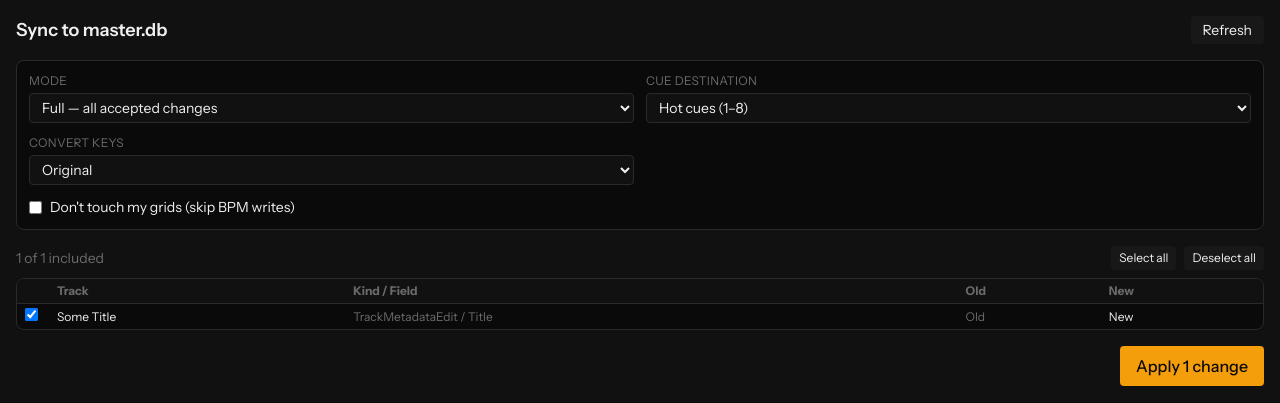
Test case: SyncPanel › excludes a row when its checkbox is toggled off
Expected: the text "Some Title" is shown, 49,304 -> 345,329
Expected: the text "1 of 1 included" is shown, 16,248 -> 104,268
Click the 2nd checkbox. click: [32, 314]
box: 25,308 -> 38,321
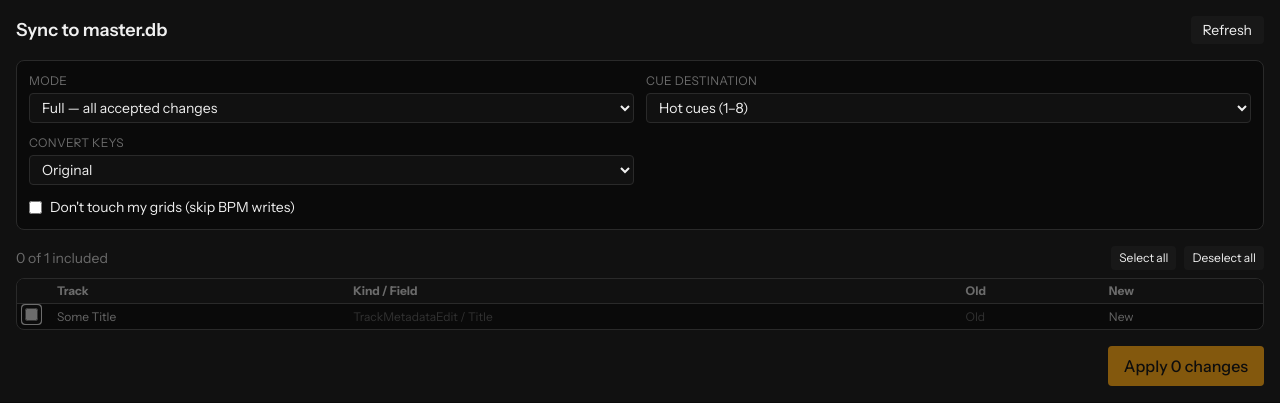
Result: the text "0 of 1 included" is shown at 16,248 -> 108,268
